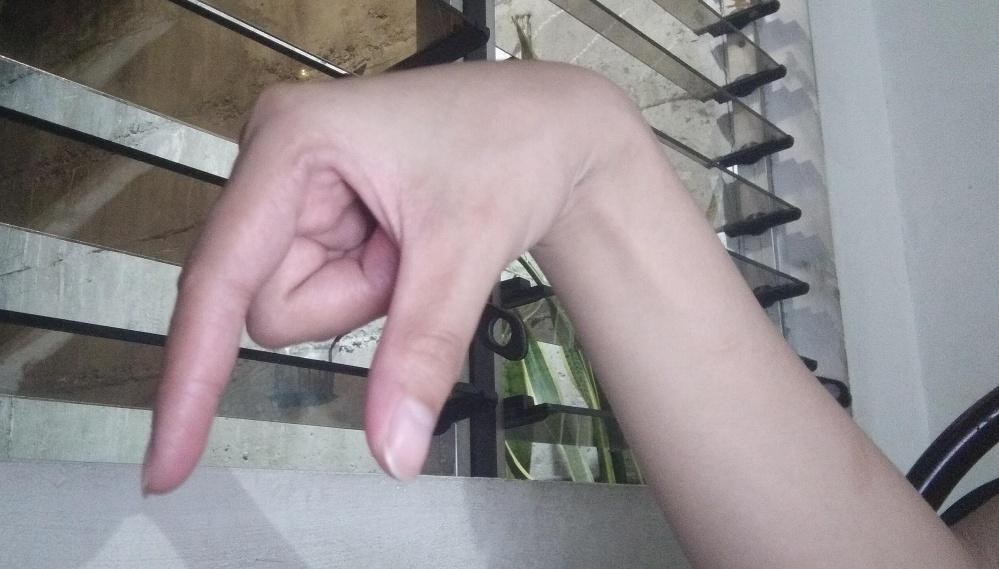q: (138, 58, 597, 499)
